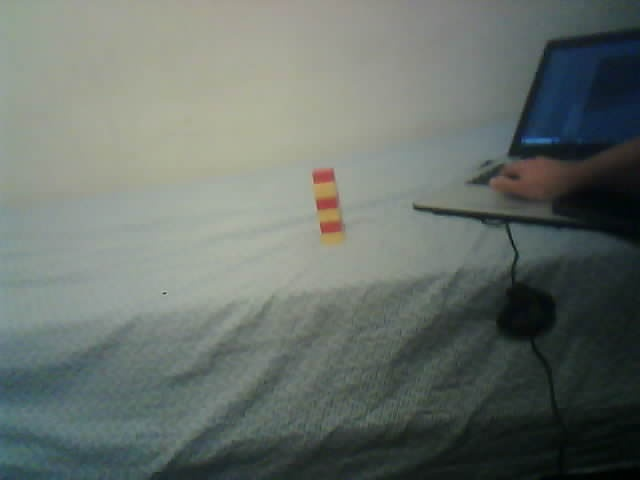lego: (310, 167, 345, 245)
